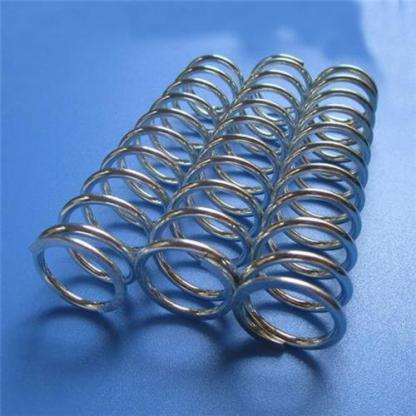FOD: (23, 52, 247, 317), (132, 52, 312, 322), (229, 61, 381, 354)
